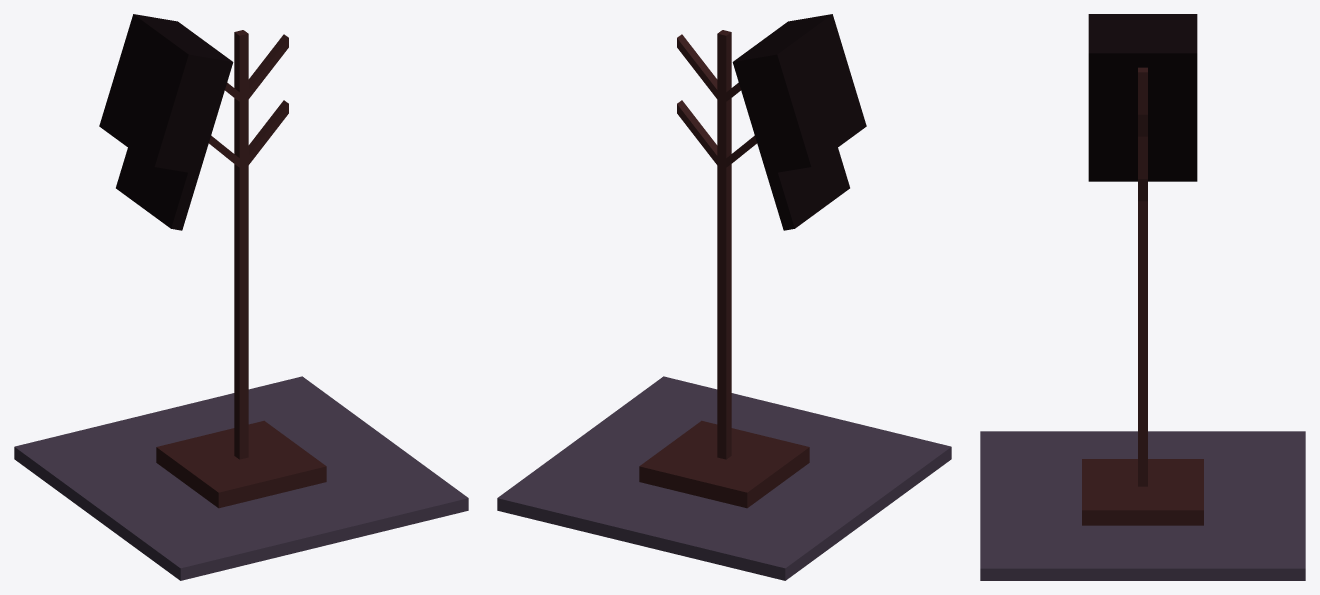
The model's file is decoration_coatRack.dae.
3 views of the same model, side by side, from view 1: azimuth 30°, elevation 25°; view 2: azimuth 150°, elevation 25°; view 3: azimuth 270°, elevation 25° (orthographic). The views are drawn at different scales.
Visible parts, largest first — view 1: decoration_codeRack_MSH; view 2: decoration_codeRack_MSH; view 3: decoration_codeRack_MSH.
Part boxes in pixels (x1=…): decoration_codeRack_MSH: x1=14, y1=14, x2=468, y2=580; decoration_codeRack_MSH: x1=497, y1=14, x2=951, y2=580; decoration_codeRack_MSH: x1=980, y1=14, x2=1305, y2=580.
Bounding box in the file's own units: 1 × 1.56 × 1.
